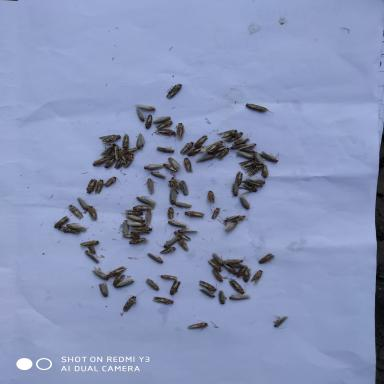pbw: (156, 214, 193, 232), (218, 251, 248, 271), (212, 130, 252, 145), (254, 155, 276, 182), (224, 277, 253, 297), (224, 134, 255, 152), (131, 189, 161, 207), (232, 164, 256, 186), (138, 175, 163, 196), (164, 82, 191, 101), (121, 221, 157, 235), (212, 123, 241, 140), (58, 202, 85, 220), (202, 202, 224, 224), (165, 172, 185, 196), (228, 144, 258, 160), (91, 132, 125, 146), (205, 145, 232, 162), (80, 246, 104, 265), (147, 294, 177, 309), (236, 182, 262, 199), (199, 137, 225, 154), (112, 217, 133, 238), (164, 277, 184, 299), (160, 187, 182, 207), (174, 137, 197, 156), (162, 154, 187, 171), (191, 130, 212, 150), (246, 156, 267, 176), (174, 175, 193, 197), (244, 102, 276, 115), (174, 157, 198, 174), (172, 227, 201, 241), (254, 149, 281, 164), (221, 219, 246, 235), (76, 177, 98, 195), (49, 213, 72, 230), (193, 150, 219, 165), (73, 238, 103, 251), (106, 272, 130, 288), (88, 177, 107, 197), (82, 204, 103, 222), (170, 121, 188, 142), (227, 177, 244, 199), (109, 152, 126, 174), (61, 222, 92, 234), (153, 161, 181, 174), (126, 233, 152, 247), (201, 188, 221, 206), (105, 264, 128, 279), (102, 151, 120, 170), (123, 152, 142, 170), (98, 141, 118, 158), (154, 236, 180, 249), (196, 279, 220, 293), (255, 250, 277, 265), (169, 198, 194, 211), (152, 141, 177, 154), (185, 319, 210, 332), (249, 268, 267, 286), (218, 212, 245, 224), (113, 144, 140, 156), (91, 265, 110, 282), (205, 258, 225, 274), (89, 152, 110, 167), (151, 126, 177, 138), (122, 211, 146, 224), (142, 161, 170, 172), (101, 175, 123, 189), (170, 239, 192, 253), (181, 208, 209, 219), (132, 131, 149, 149), (75, 196, 92, 214), (271, 314, 290, 330), (140, 111, 156, 130), (225, 294, 255, 304), (158, 245, 179, 259), (195, 288, 219, 300), (114, 146, 130, 164), (150, 113, 172, 126), (96, 279, 111, 298), (83, 242, 102, 257), (54, 226, 82, 236), (236, 262, 249, 283), (121, 205, 148, 215), (237, 196, 255, 211), (119, 128, 130, 152), (133, 107, 149, 123), (143, 277, 160, 292), (208, 269, 226, 283), (186, 144, 204, 158), (230, 215, 252, 226), (242, 266, 254, 286), (244, 176, 268, 186), (146, 168, 166, 180), (154, 120, 174, 132), (145, 252, 165, 264), (163, 205, 177, 222), (133, 103, 157, 112), (156, 273, 180, 282), (216, 289, 229, 305), (118, 232, 142, 240), (237, 142, 258, 151), (127, 229, 153, 236)
